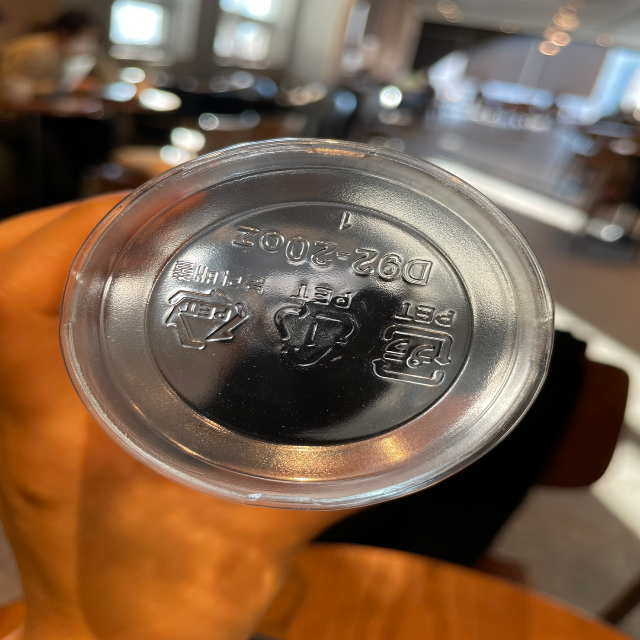pet: (160, 254, 269, 356), (368, 297, 462, 393), (270, 271, 357, 372)
